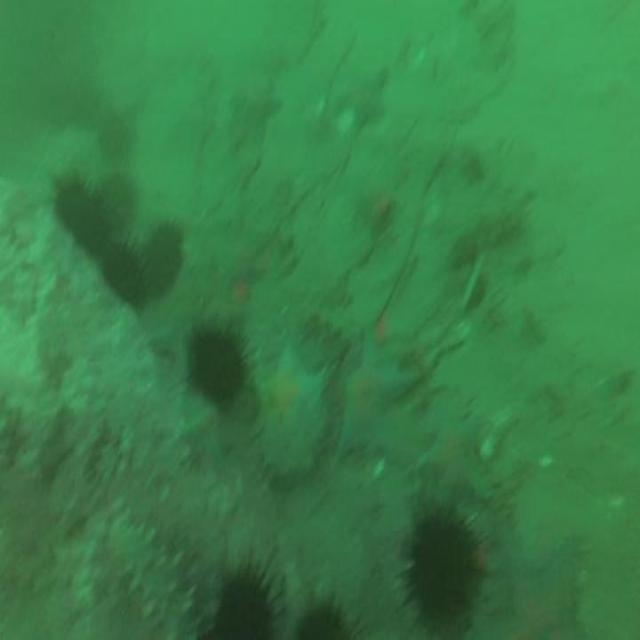echinus: (407, 515, 471, 620), (186, 330, 245, 406), (213, 577, 271, 640), (57, 185, 102, 259), (103, 242, 149, 308), (148, 226, 183, 297), (97, 174, 134, 231)
holothurian: (109, 515, 199, 640), (447, 205, 525, 261)
starfish: (498, 524, 583, 640), (340, 331, 412, 458), (257, 346, 325, 454), (420, 403, 489, 506)
